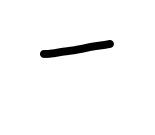minus: (41, 40, 114, 58)
